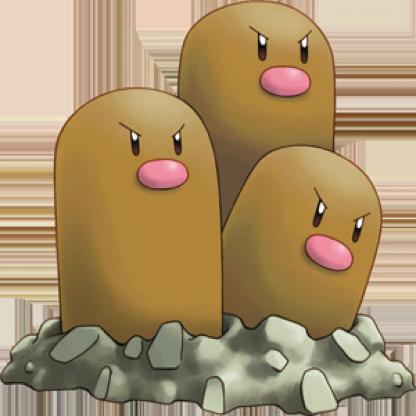Dugtrio: (36, 1, 398, 407)
